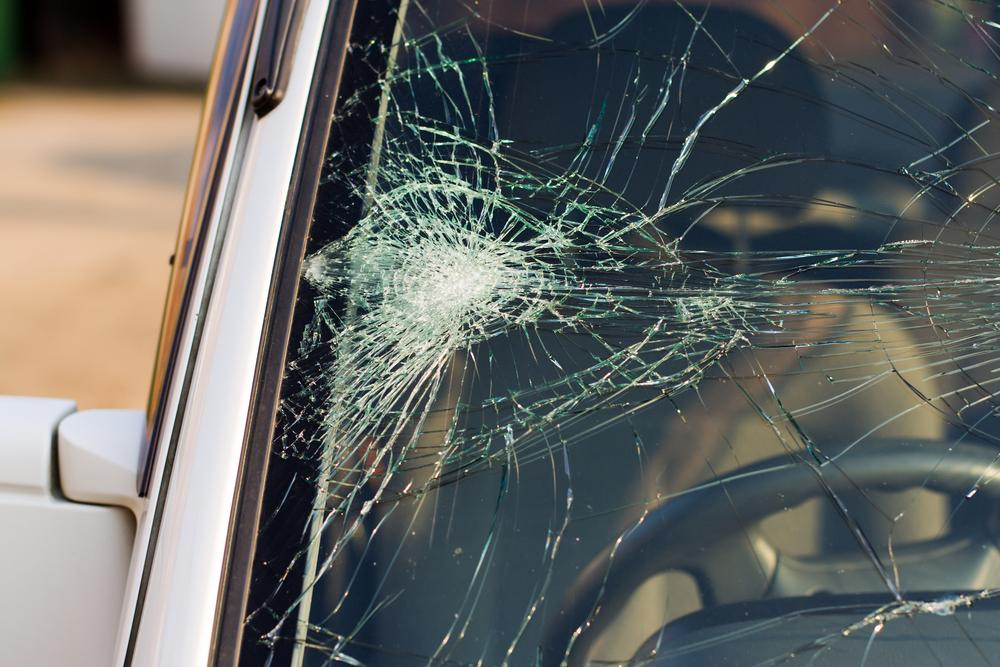glass shatter: (236, 0, 1000, 667)
